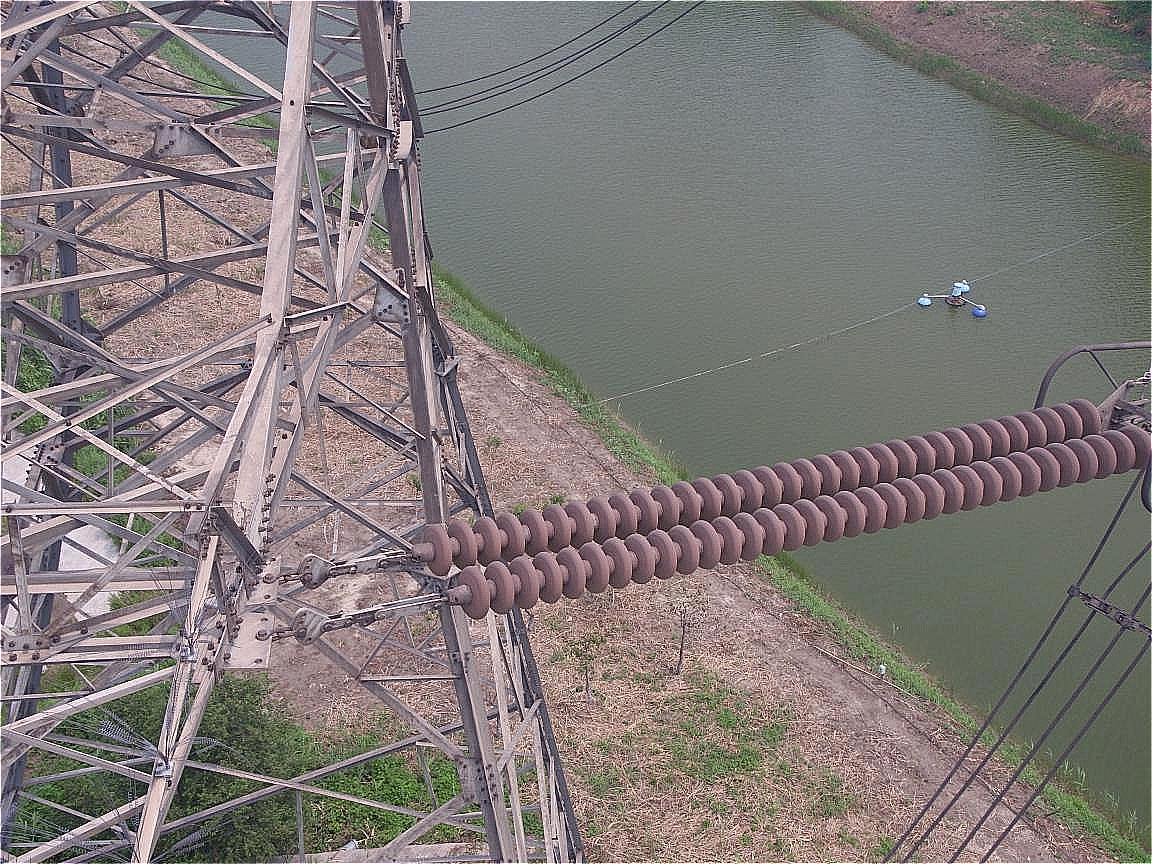insultor1: (409, 401, 1152, 623)
